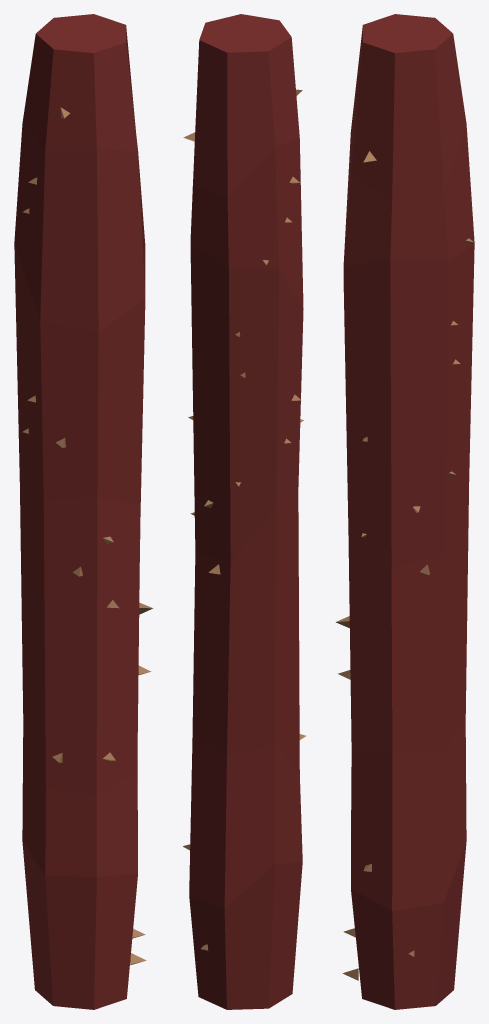
File: Cactus_1_Red.fbx
The picture shows the model from 3 angles, left to right: view 1: azimuth 90°, elevation 25°; view 2: azimuth 210°, elevation 25°; view 3: azimuth 270°, elevation 25°; orthographic projection.
Visible parts, largest first — view 1: Cactus_1_Red; view 2: Cactus_1_Red; view 3: Cactus_1_Red.
Part boxes in pixels (x1,y1,x2,y2): Cactus_1_Red: [14, 14, 153, 1009]; Cactus_1_Red: [183, 14, 306, 1009]; Cactus_1_Red: [335, 14, 474, 1009].
Size of the model in its own units: 28.33 by 260 by 34.32.
